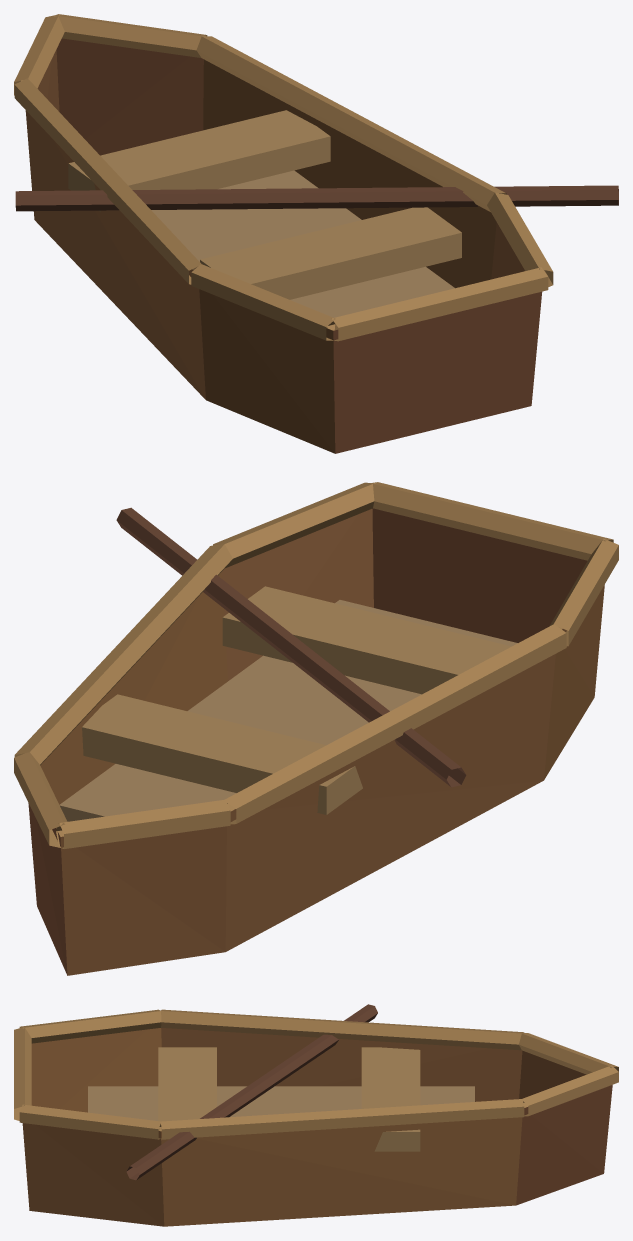
The picture shows the model from 3 angles, top to bottom: view 1: azimuth 30°, elevation 25°; view 2: azimuth 150°, elevation 25°; view 3: azimuth 270°, elevation 25°; orthographic projection. The views are drawn at different scales.
Visible parts, largest first — view 1: H05_双桨小木舟; view 2: H05_双桨小木舟; view 3: H05_双桨小木舟.
Part boxes in pixels (x1=…): H05_双桨小木舟: x1=14, y1=14, x2=618, y2=453; H05_双桨小木舟: x1=14, y1=482, x2=618, y2=975; H05_双桨小木舟: x1=14, y1=1004, x2=618, y2=1226.
Bounding box in the file's own units: 1.04 × 0.3038 × 1.55.
